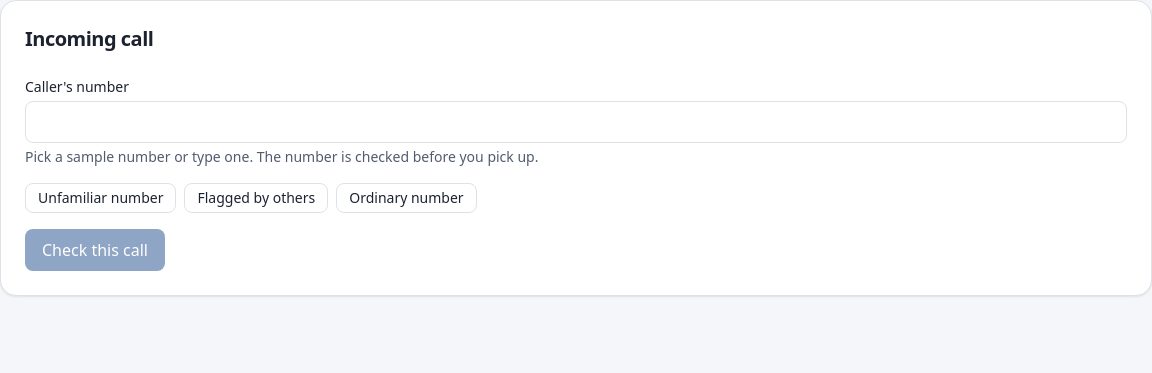
Test: IncomingCallScreen › shows the previously-reported warning
Step 1. Type "9876543210" into the field labelled "Caller's number" → (576, 122), box [25, 101, 1127, 143]
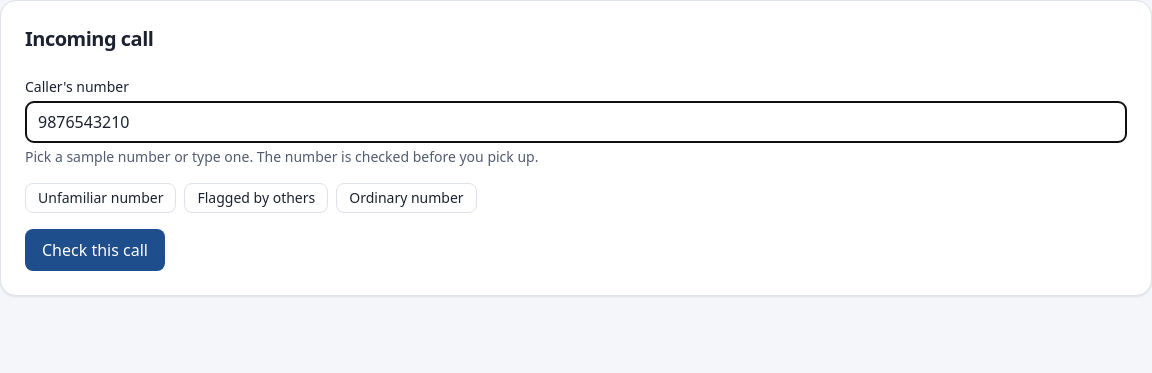
Step 2. Click the button "Check this call" → (95, 250), box [25, 229, 165, 271]
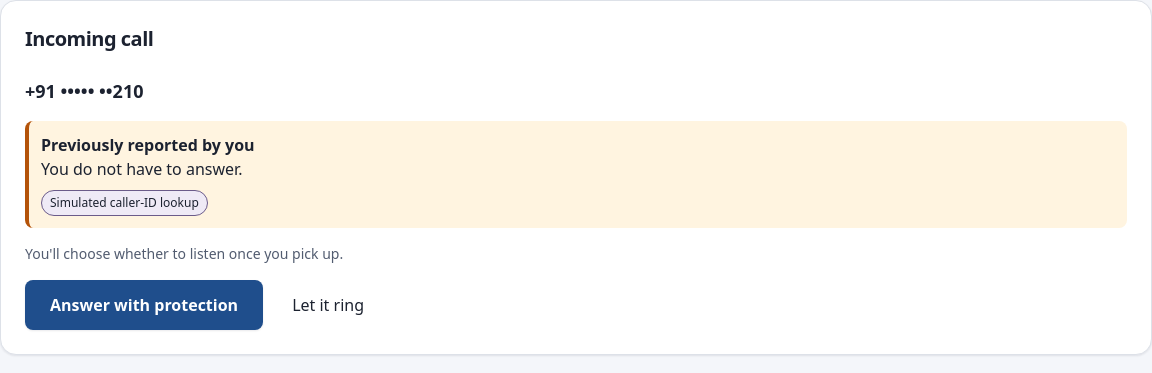
Expected: the message shows "Previously reported by you", [41, 134, 255, 156]
